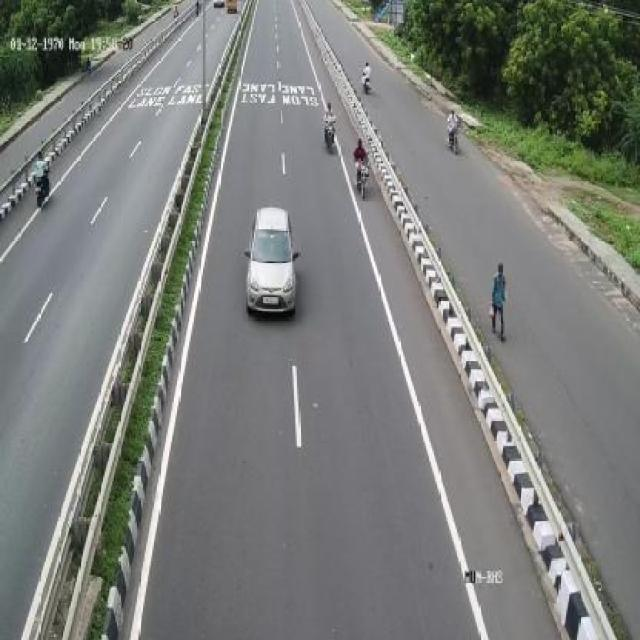car: (246, 200, 302, 320)
